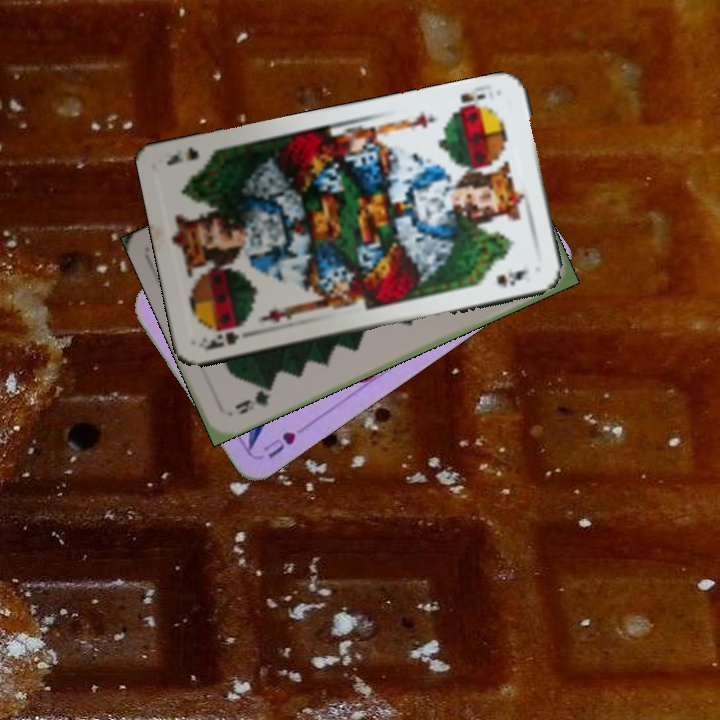G9: (231, 381, 277, 418)
HU: (259, 427, 299, 462)
SK: (197, 321, 257, 353), (448, 88, 490, 116)
